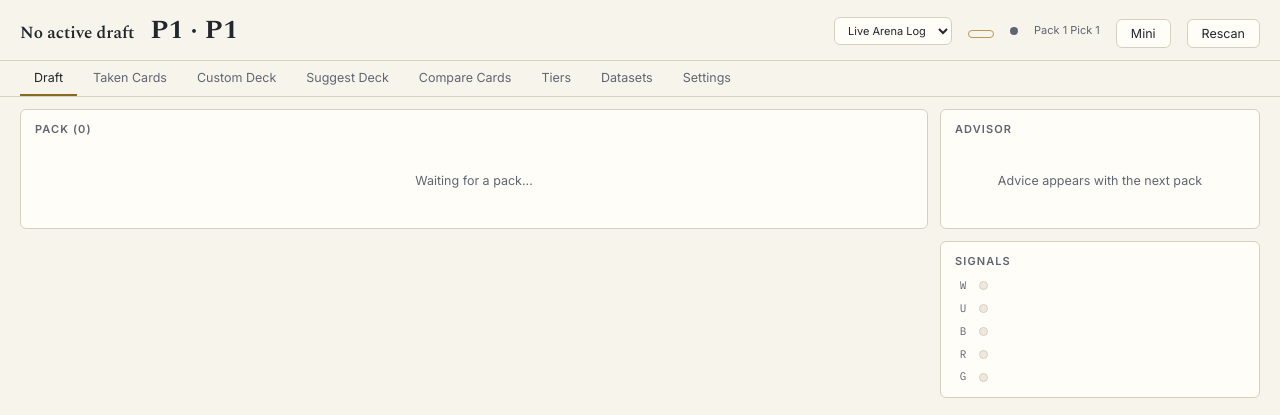
Sealed tab gating › shows the Sealed tab after loading a Sealed history log via the log switcher
Expected: the navigation bar is shown, top-left (0, 61), bottom-right (1279, 97)
Expected: the button "Sealed Deck" is not shown
// The log switcher is the only combobox (DatasetSwitcher renders null).
Select "OTJ Sealed" in the dropdown at (893, 31), box top-left (834, 17), bottom-right (952, 45)
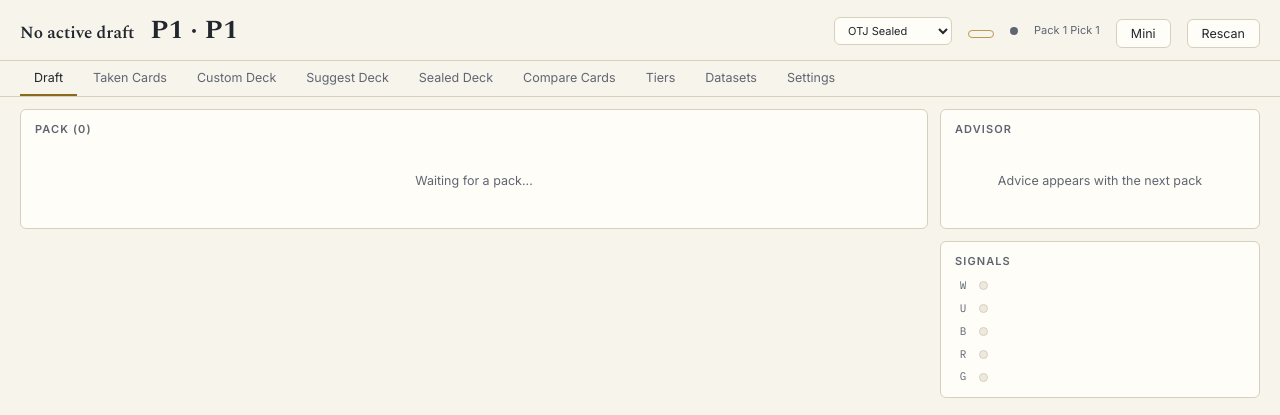
Expected: the button "Sealed Deck" is shown, top-left (405, 61), bottom-right (507, 96)
